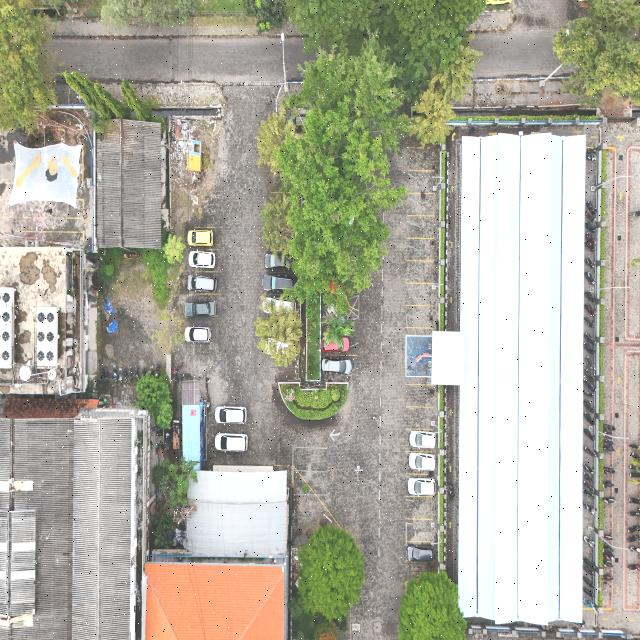Tree: (289, 520, 370, 629), (0, 0, 61, 139), (394, 564, 469, 640), (250, 292, 306, 369), (404, 75, 458, 152), (132, 370, 179, 427)
